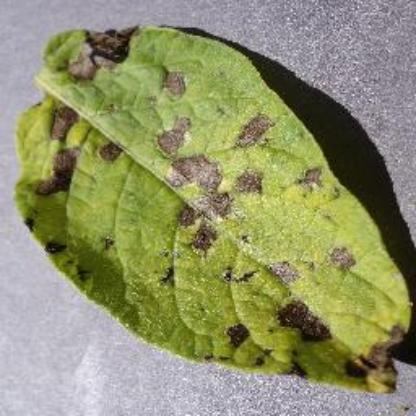Early-Blight: (16, 20, 412, 392)
